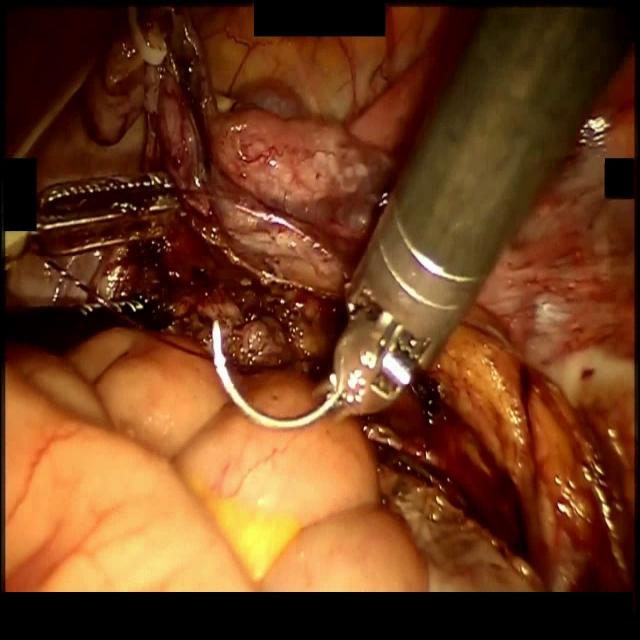surgical-area: (2, 0, 634, 588)
surgical-tool: (330, 0, 632, 415), (4, 172, 175, 257)
